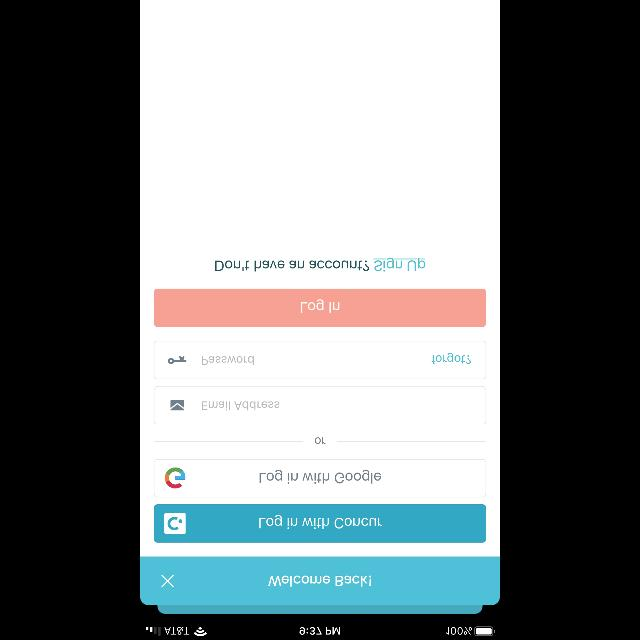icon: (168, 356, 186, 364), (162, 575, 174, 587), (171, 400, 185, 410)
input: (154, 341, 486, 379), (154, 386, 486, 424)
text: (215, 258, 425, 272), (268, 576, 372, 586), (202, 402, 280, 411), (202, 356, 254, 366), (432, 354, 470, 364), (315, 438, 325, 444)
textbutton: (154, 288, 486, 326), (154, 459, 486, 497), (154, 504, 486, 542)
uppertaskbar: (140, 626, 500, 640)
